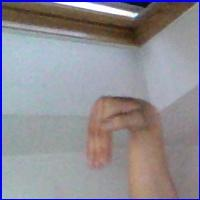del: (81, 88, 157, 178)
